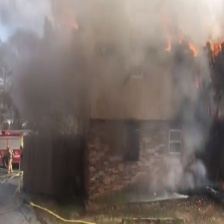fire: (167, 17, 224, 61)
smoke: (6, 1, 216, 192)
